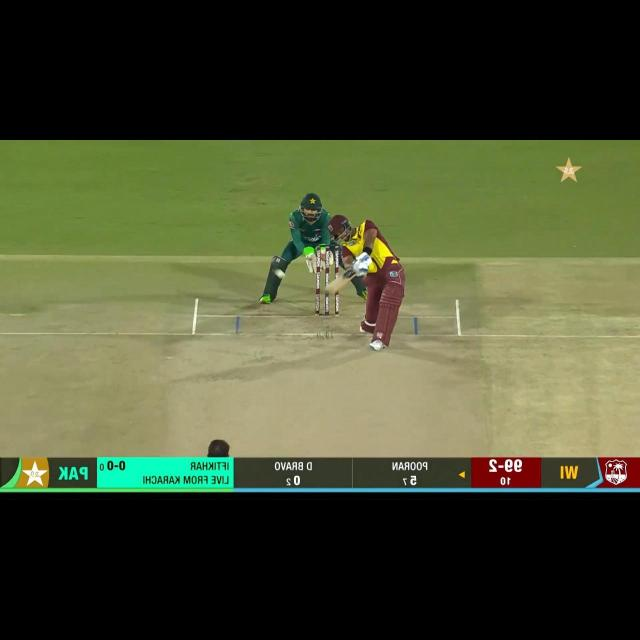bat: (326, 269, 361, 295)
toe: (325, 282, 340, 294)
